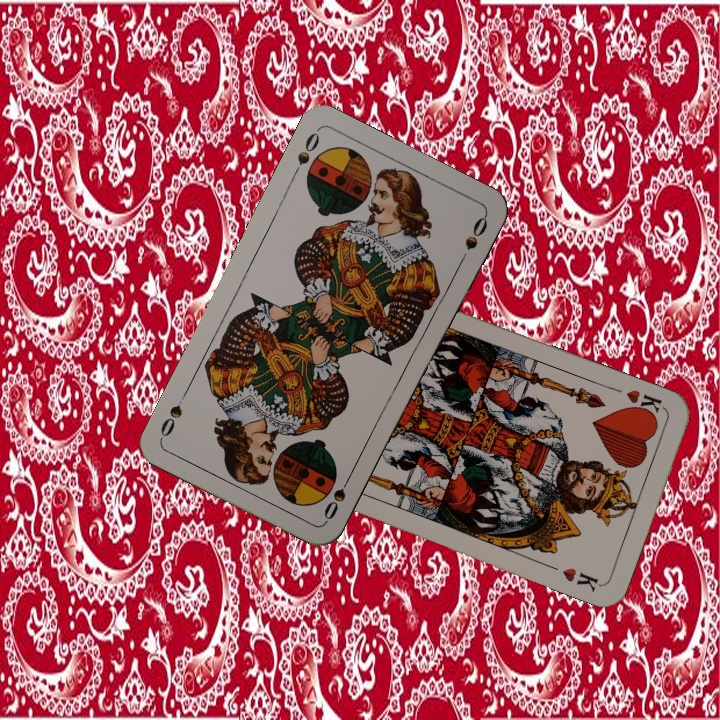HK: (622, 385, 667, 421)
SO: (320, 469, 355, 523), (287, 128, 322, 182)
